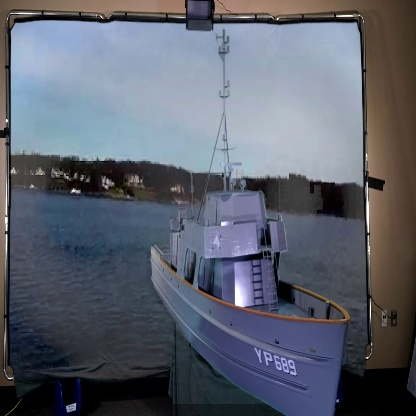YP689: (151, 32, 351, 416)
